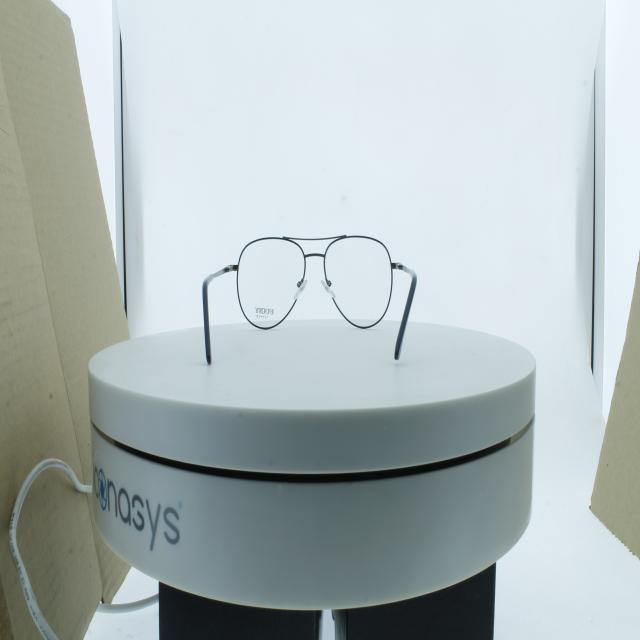Specs: (150, 176, 439, 396)
